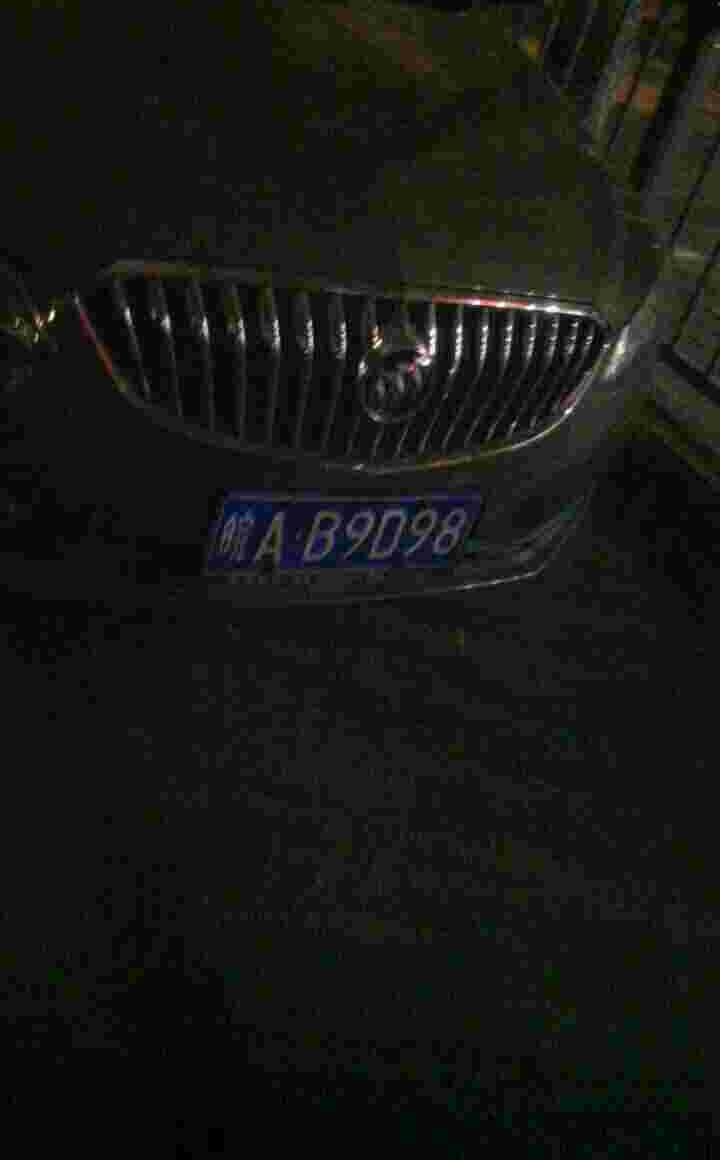car: (200, 487, 481, 573)
